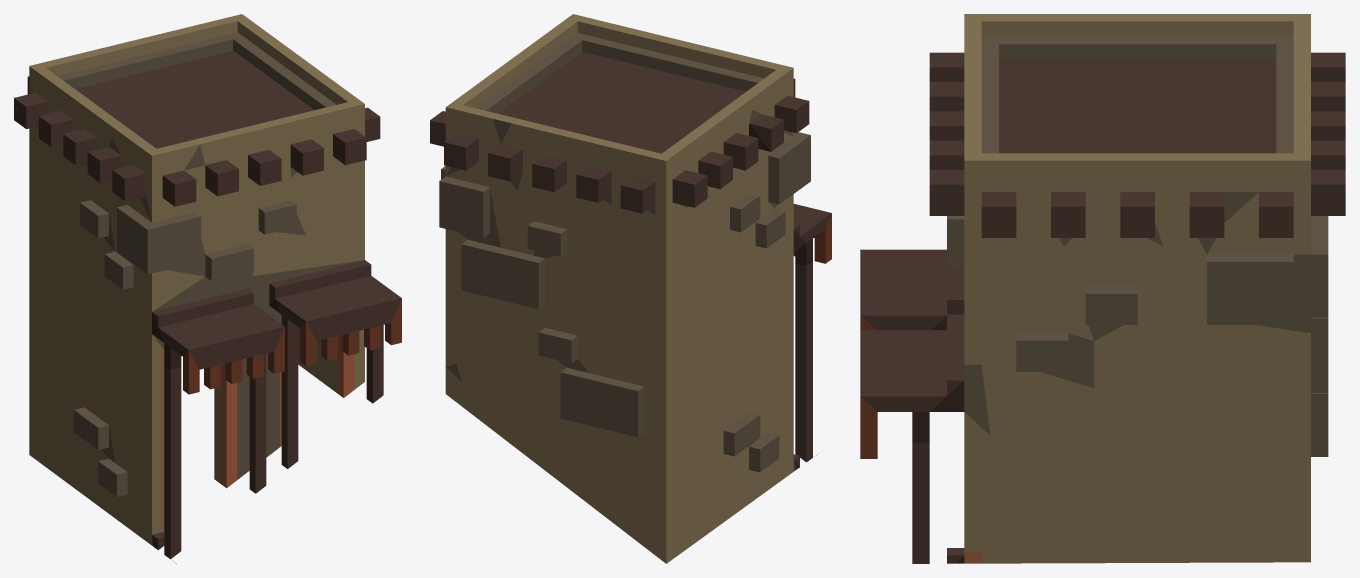
File: tallBuilding_02_top.obj
3 renders of one model, left to right at view 1: azimuth 30°, elevation 25°; view 2: azimuth 150°, elevation 25°; view 3: azimuth 270°, elevation 25°, orthographic. The views are drawn at different scales.
Parts seen in each view (by area): view 1: Untitled; view 2: Untitled; view 3: Untitled.
Part boxes in pixels (x1,y1,x2,y2): Untitled: (14,14,401,563); Untitled: (430,14,831,563); Untitled: (860,14,1345,563).
Size of the model in its own units: 2.4 by 3.5 by 2.8.
